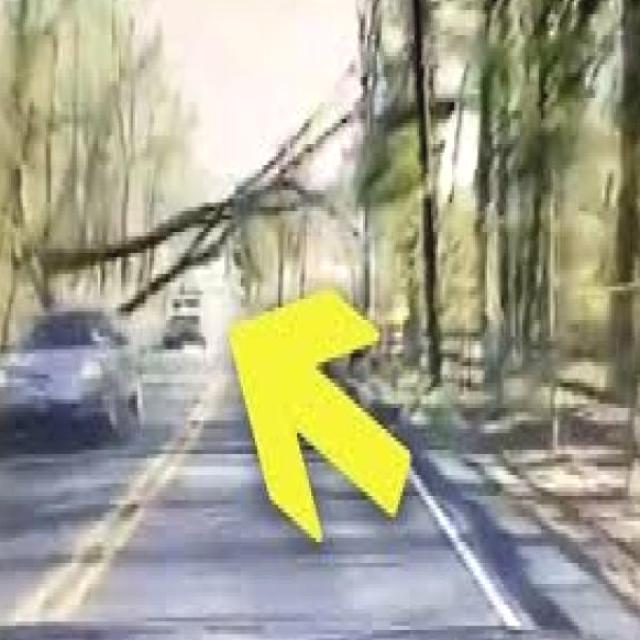fallen_object: (43, 117, 356, 299)
